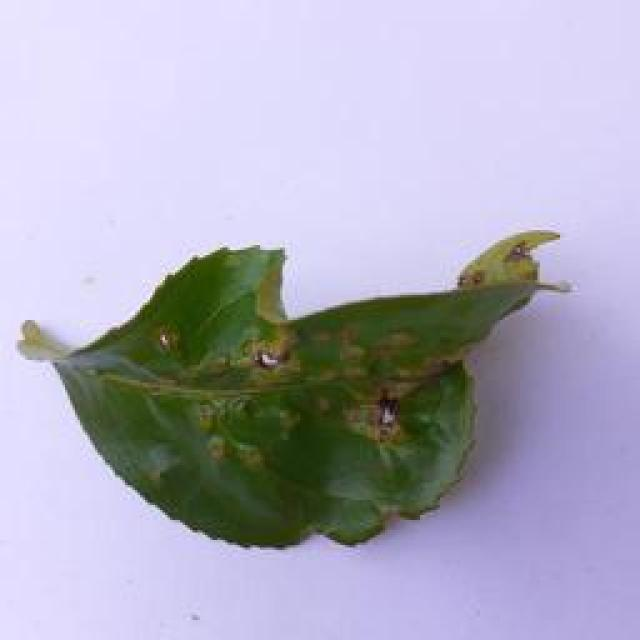Helopeltis: (10, 235, 556, 554)
